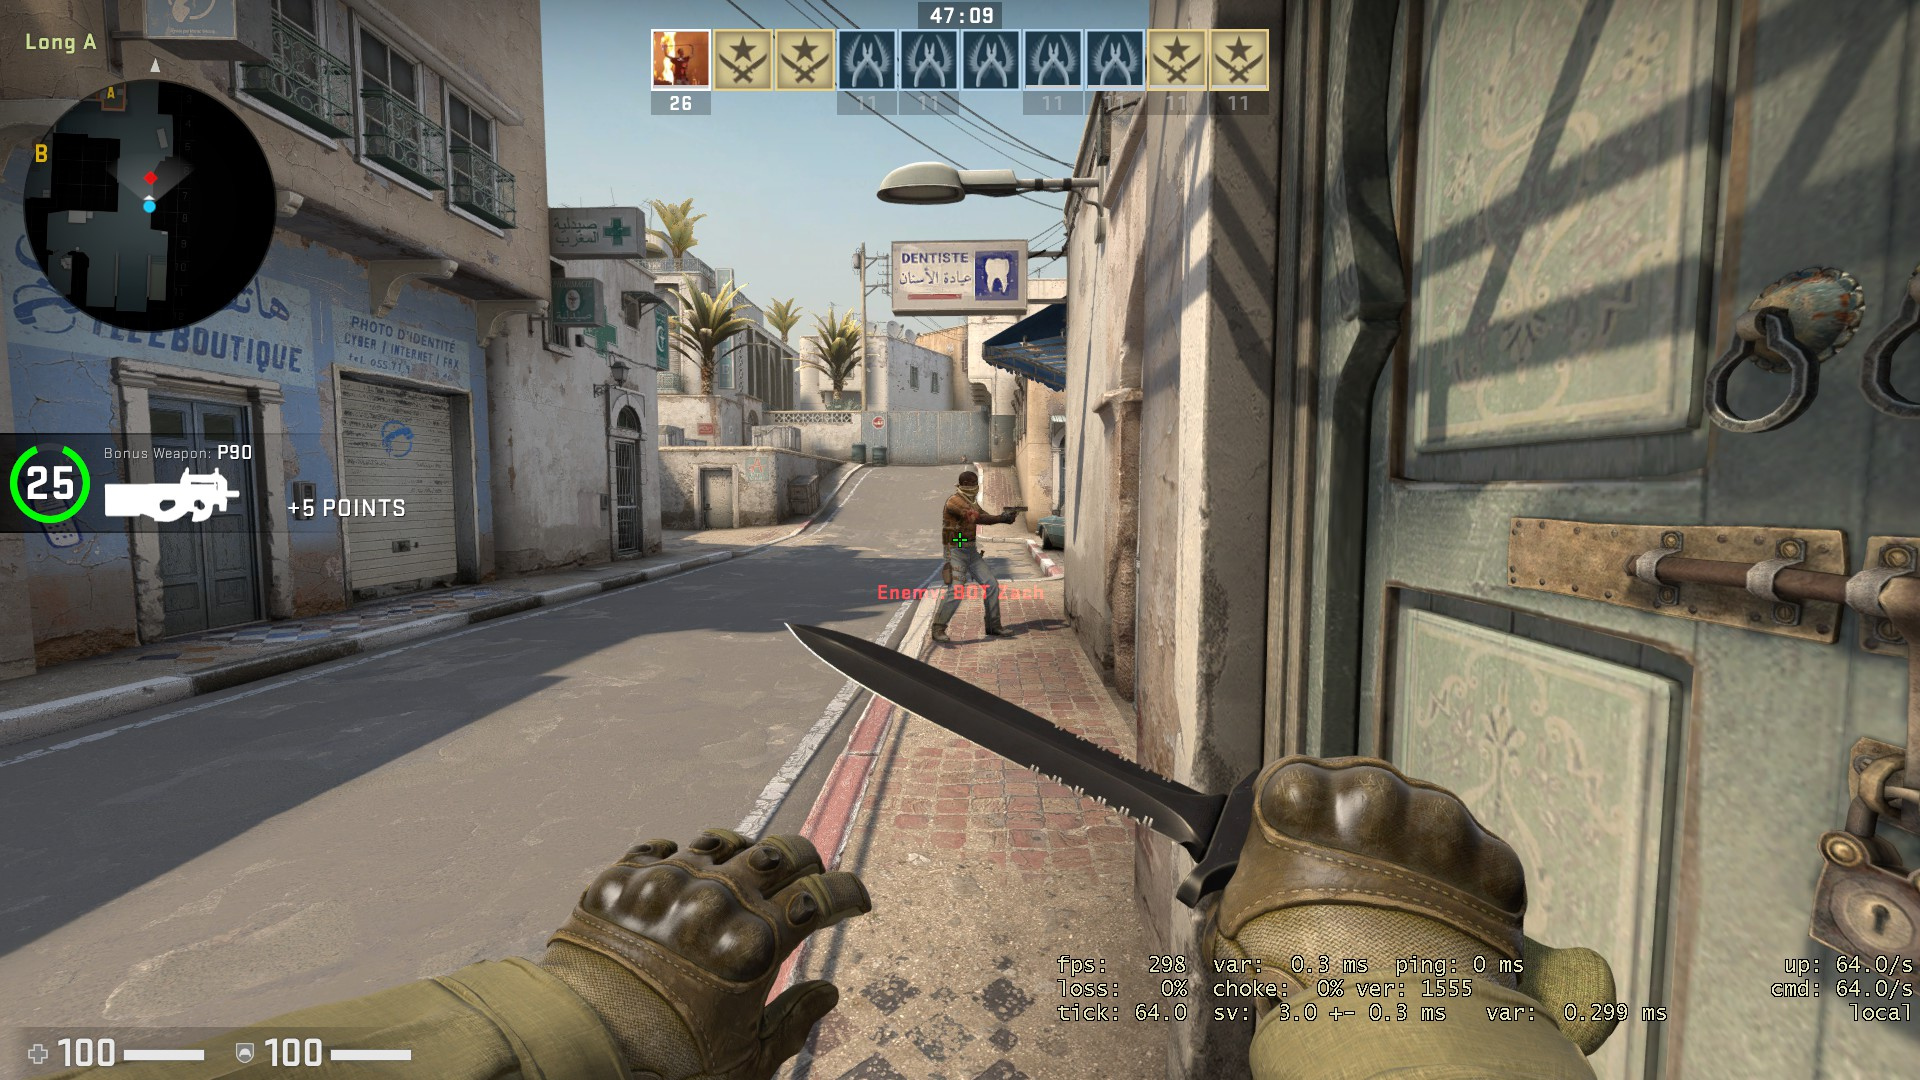player: (930, 468, 1032, 647)
